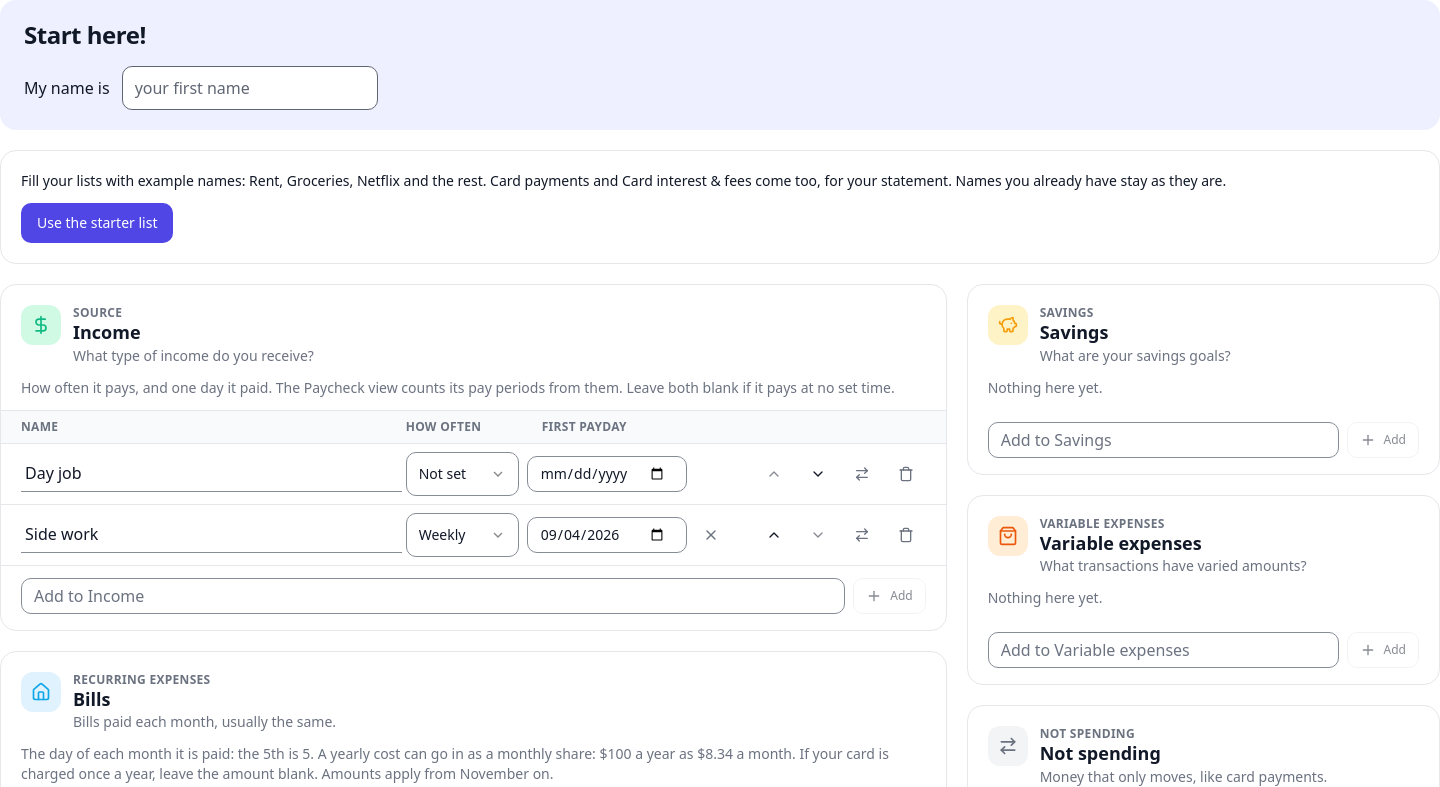
Test: Lists, when income is paid › puts back what is stored when a save is refused, and says why
Select "Bi-weekly" in the dropdown named "How often Side work pays": (462, 534) [406, 512, 519, 556]
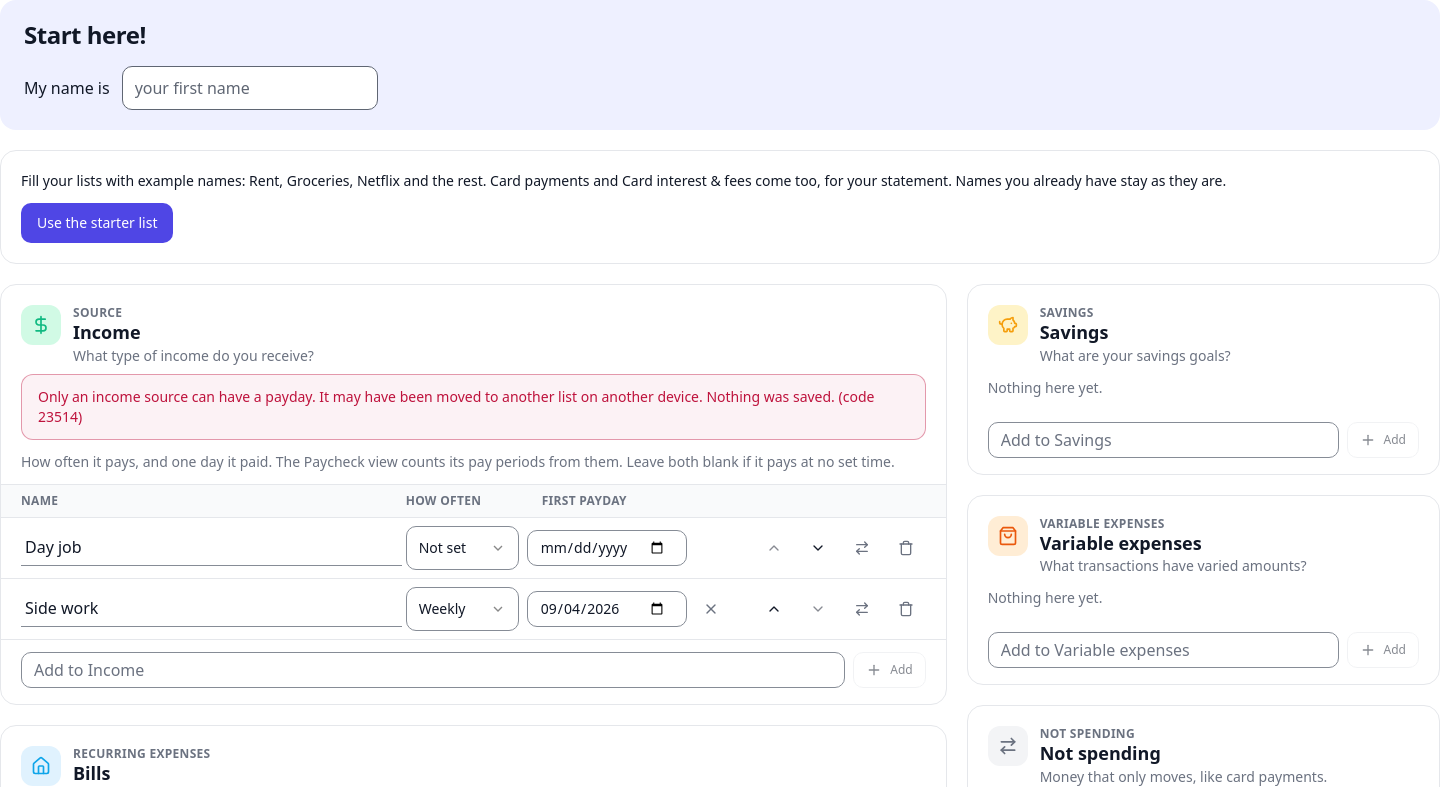
Now the message shows "Only an income source can have a payday. It may have been moved to another list on another device. Nothing was saved. (code 23514)", box [38, 386, 874, 426]
